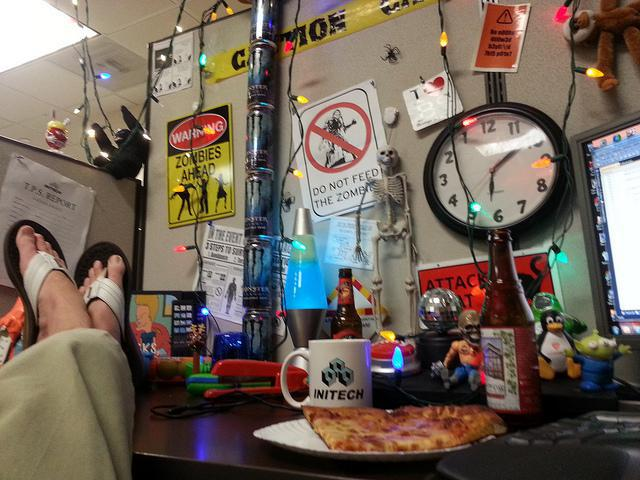tv: (558, 101, 639, 369)
